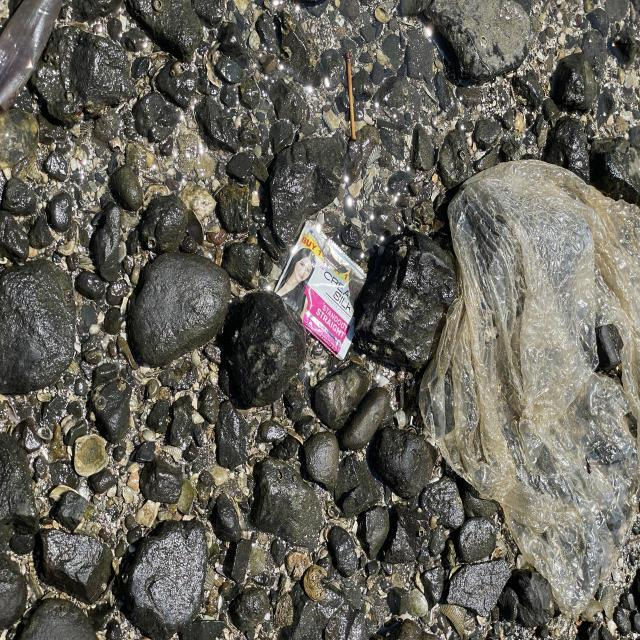plastic_waste: (273, 220, 370, 362)
